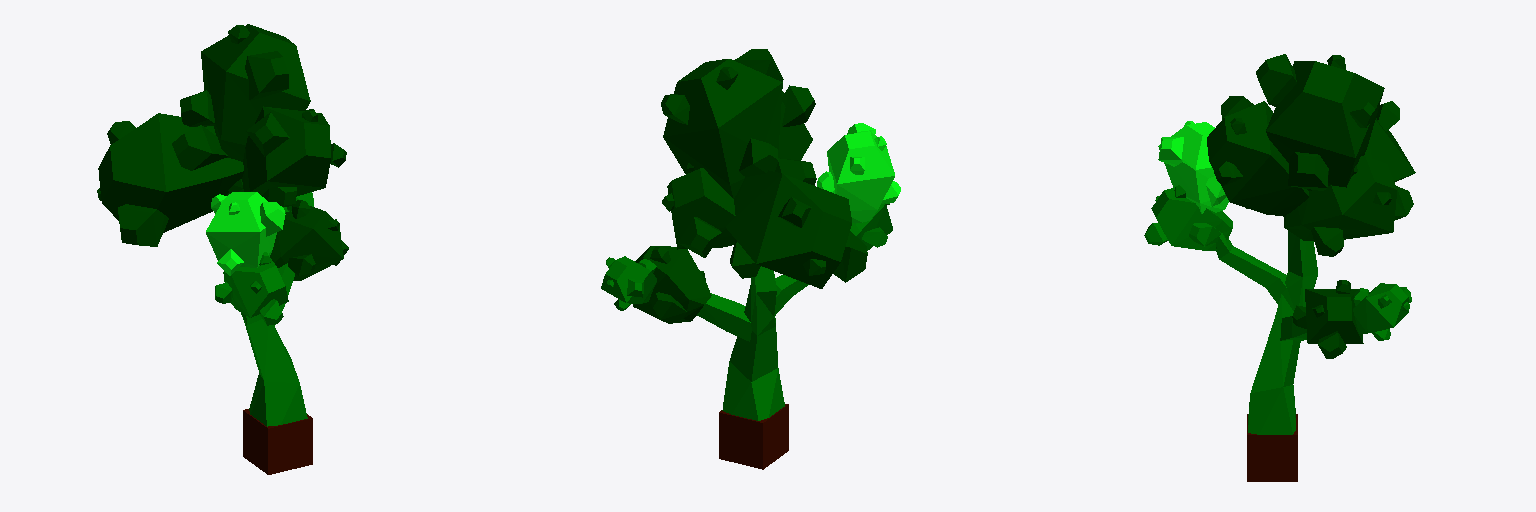
The model's file is tree.obj.
The picture shows the model from 3 angles: view 1: azimuth 30°, elevation 25°; view 2: azimuth 150°, elevation 25°; view 3: azimuth 270°, elevation 25°; orthographic projection.
Parts seen in each view (by area): view 1: Tree, Cube; view 2: Tree, Cube; view 3: Tree, Cube.
Boxes of the visible parts, box(x1,y1,x2,y2) form: Tree: box(97, 24, 348, 426); Cube: box(243, 409, 312, 474); Tree: box(601, 49, 900, 420); Cube: box(719, 404, 788, 469); Tree: box(1144, 54, 1415, 434); Cube: box(1247, 414, 1297, 481).
Size of the model in its own units: 10.59 by 17.73 by 10.6.